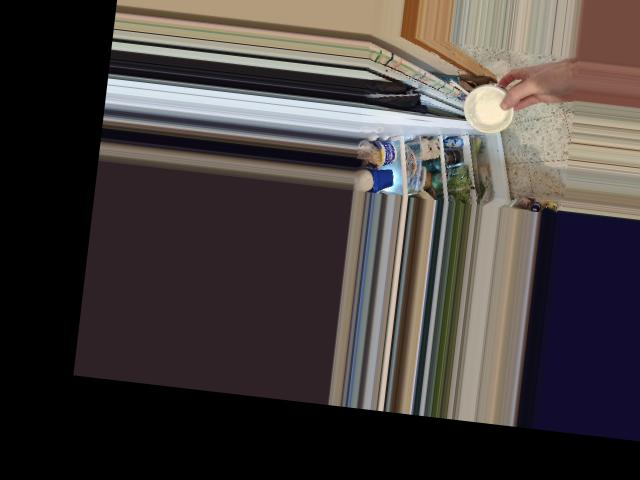cotage: (464, 77, 518, 132)
